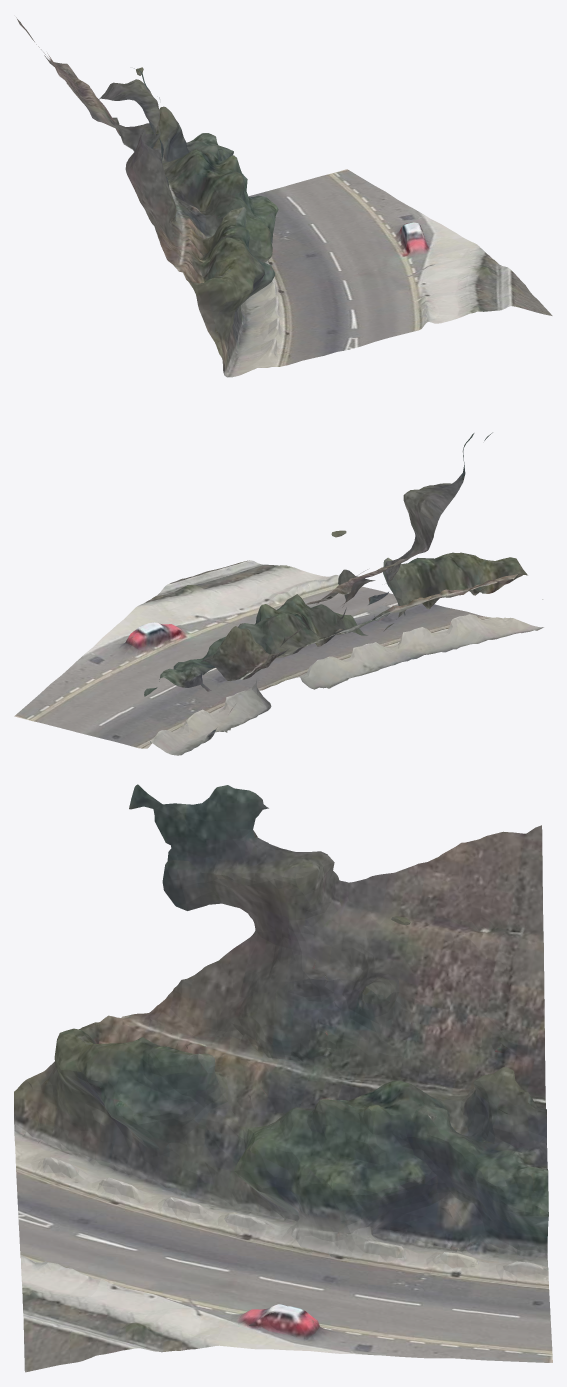
Rendered from Tile_+012_+008_L21_0000022000.glb.
3 views of the same model, one above another, from view 1: azimuth 30°, elevation 25°; view 2: azimuth 150°, elevation 25°; view 3: azimuth 270°, elevation 25° (orthographic). The views are drawn at different scales.
Visible parts, largest first — view 1: rtc; view 2: rtc; view 3: rtc.
Boxes of the visible parts, x1,y1,x2,y2 form: rtc: [16, 17, 552, 377]; rtc: [14, 432, 543, 755]; rtc: [14, 784, 552, 1372].
Size of the model in its own units: 32.02 by 24.57 by 32.61.
Materials: 1 (1 with a texture image).
